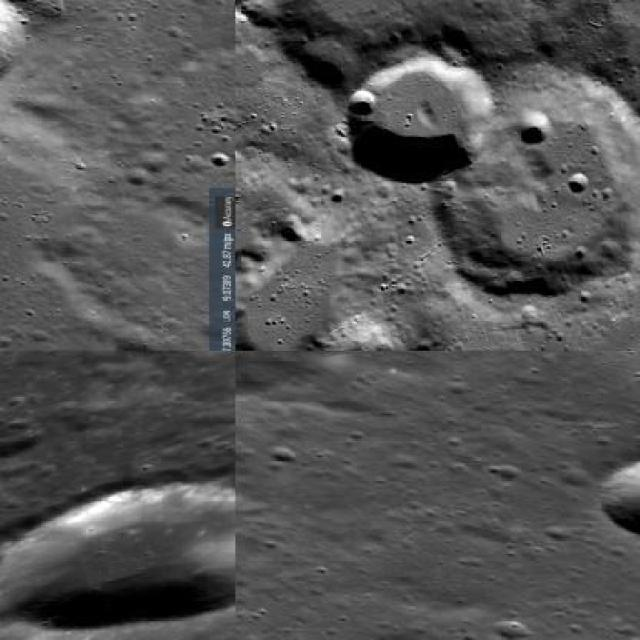crater: (434, 61, 638, 297), (0, 482, 234, 630), (349, 58, 485, 182), (598, 457, 638, 545), (515, 110, 548, 142), (348, 85, 378, 117), (568, 172, 589, 192)
